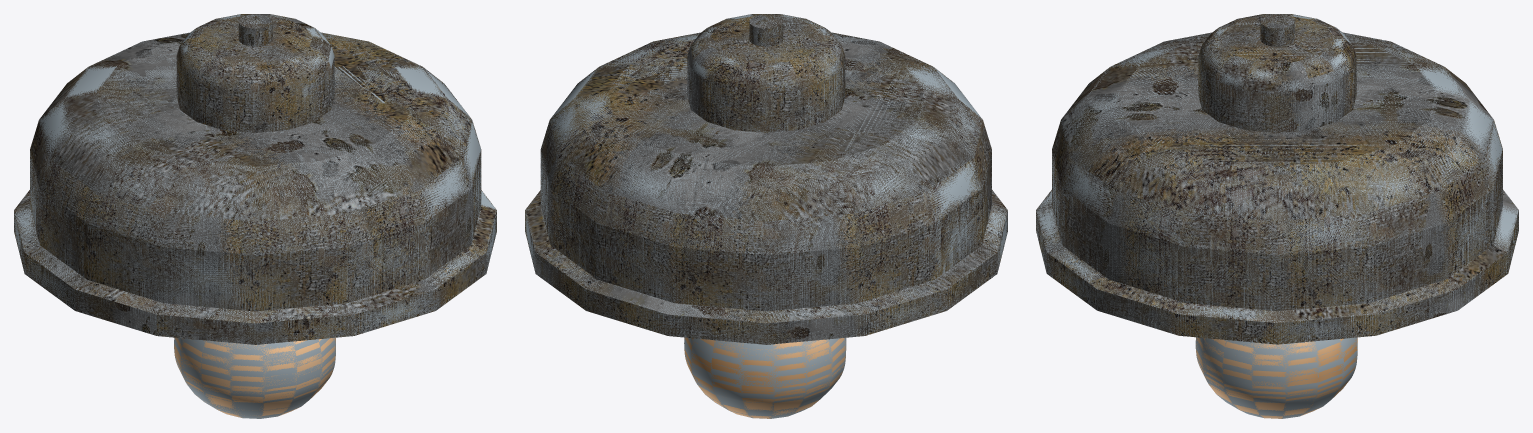
The model's file is Bulb.fbx.
The picture shows the model from 3 angles, left to right: view 1: azimuth 30°, elevation 25°; view 2: azimuth 150°, elevation 25°; view 3: azimuth 270°, elevation 25°; orthographic projection.
Visible parts, largest first — view 1: Group1; view 2: Group1; view 3: Group1.
Part boxes in pixels (<box>): Group1: <box>14,14,496,418</box>; Group1: <box>525,14,1007,418</box>; Group1: <box>1036,14,1518,418</box>.
Bounding box in the file's own units: 8.57 × 7.66 × 8.61.
